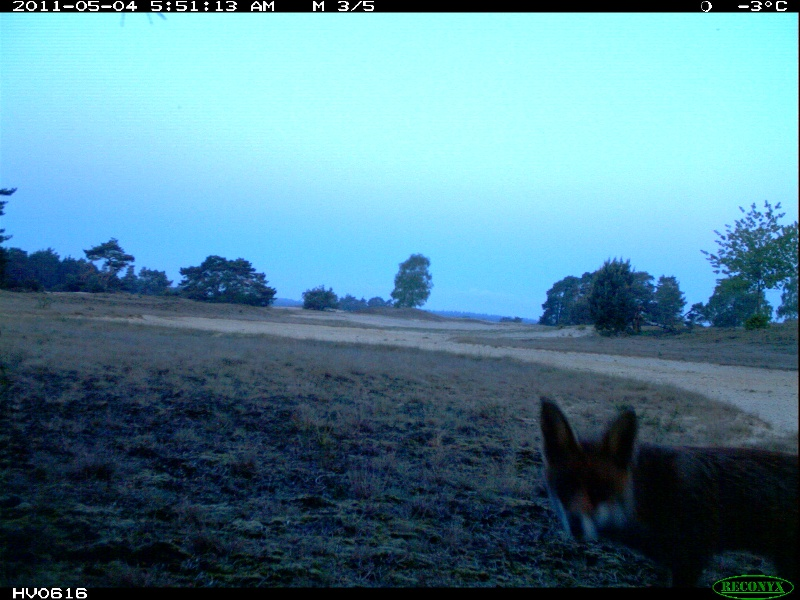fox: (532, 394, 800, 582)
